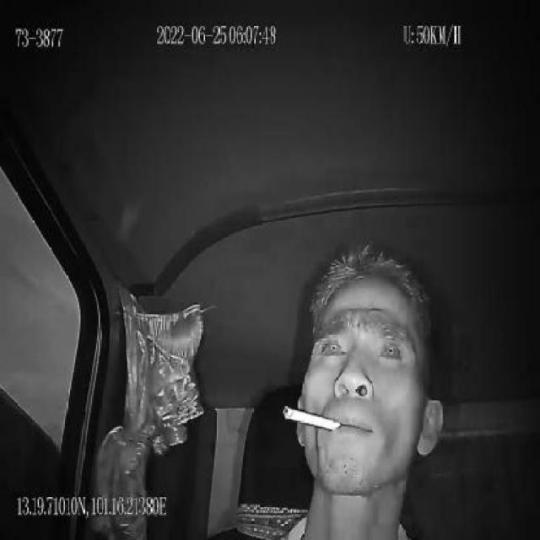smoking: (281, 399, 343, 435)
